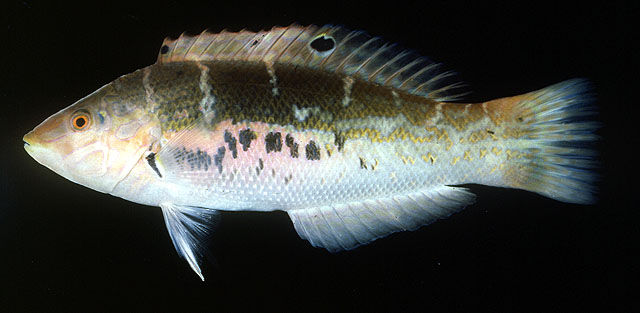fish: (23, 25, 597, 282)
